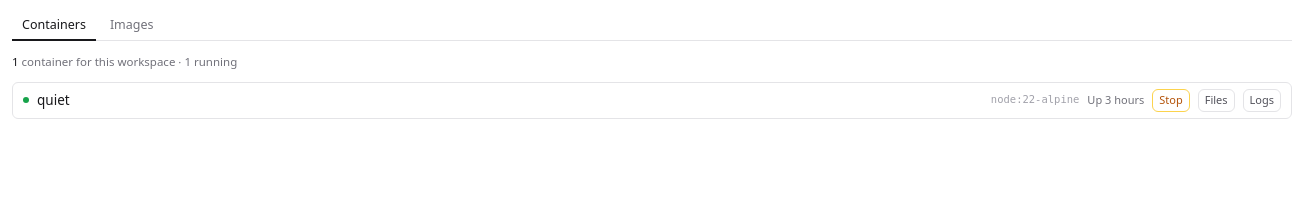
it: logs are a read, taken on request › a container that wrote nothing says so
This screenshot has width=1304, height=205.
Click the button with test id "docker-logs-quiet".
click(1262, 100)  # box left=1242, top=89, right=1281, bottom=112
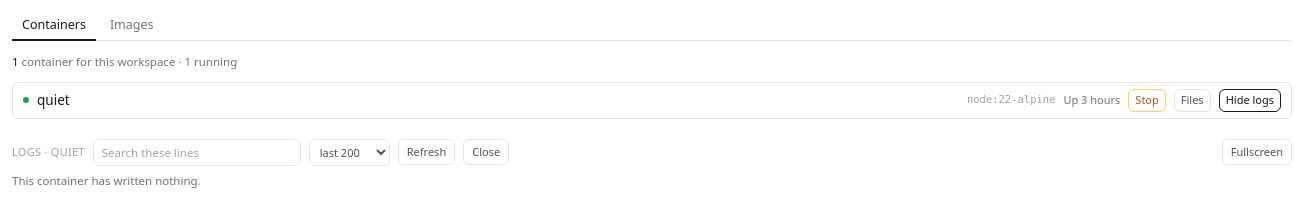
expect the text "This container has written nothing." is shown: met, box left=12, top=173, right=201, bottom=188
